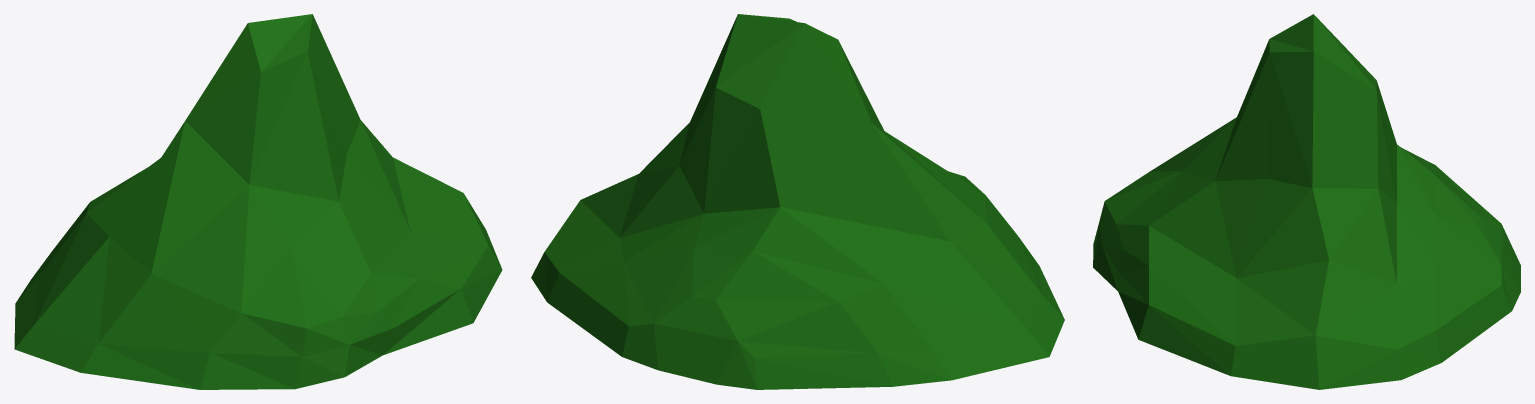
Rendered from San1-2.fbx.
3 renders of one model, left to right at view 1: azimuth 30°, elevation 25°; view 2: azimuth 150°, elevation 25°; view 3: azimuth 270°, elevation 25°, orthographic. The views are drawn at different scales.
Parts seen in each view (by area): view 1: San1-2; view 2: San1-2; view 3: San1-2.
Part boxes in pixels (x1,y1,x2,y2): San1-2: (14,14,502,389); San1-2: (531,14,1064,389); San1-2: (1093,14,1520,389).
Size of the model in its own units: 63.75 by 34.22 by 50.81.
